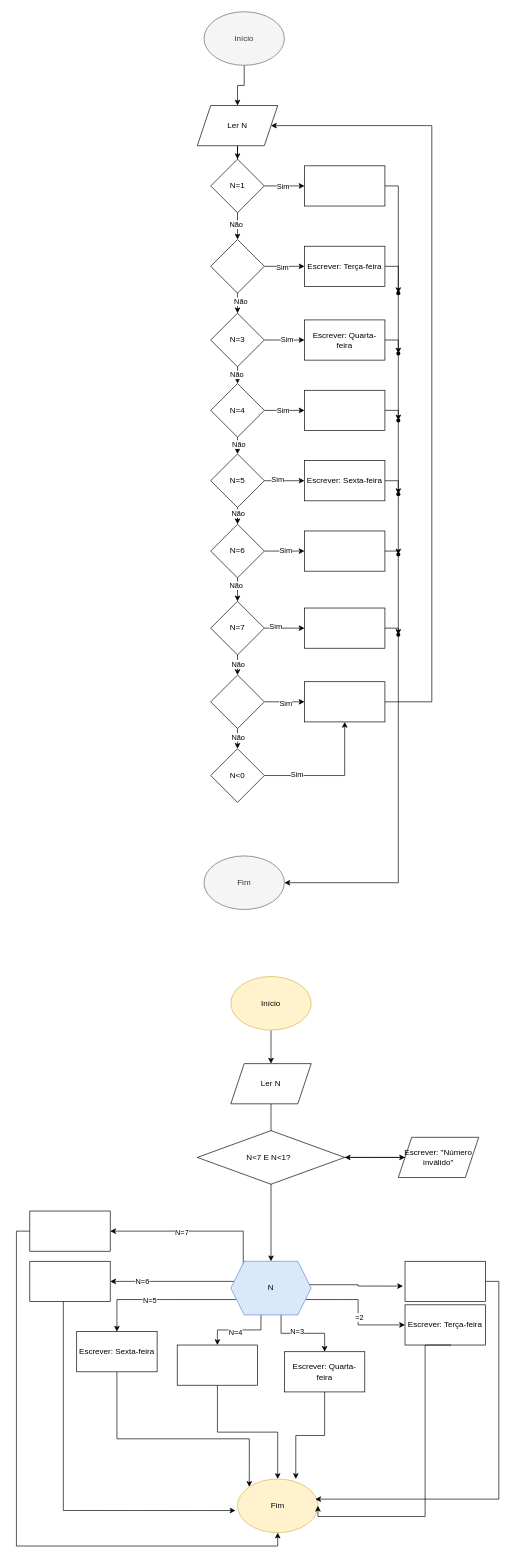
Some shapes in this 516 by 1563 pixel diagram are drawn without their labels. Here are the shapes that lost their labels. From the top down, the centre of each, then its label:
pixel 344 185: Escrever: Segunda feira
pixel 237 266: N=2
pixel 344 410: Escrever: Quinta-feira
pixel 344 550: Escrever: Sábado
pixel 344 627: Escrever: Domingo
pixel 237 701: N>7
pixel 344 701: Escrever: Erro, escreva outro número
pixel 69 1230: Escrever:Domingo
pixel 69 1281: Escrever:Sábado
pixel 444 1281: Escrever:Segunda-feira
pixel 217 1364: Escrever:Quinta-feira
